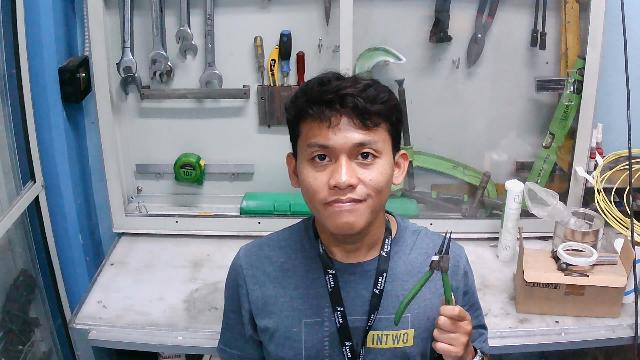tang_cucut_lancip_2: (389, 223, 462, 334)
